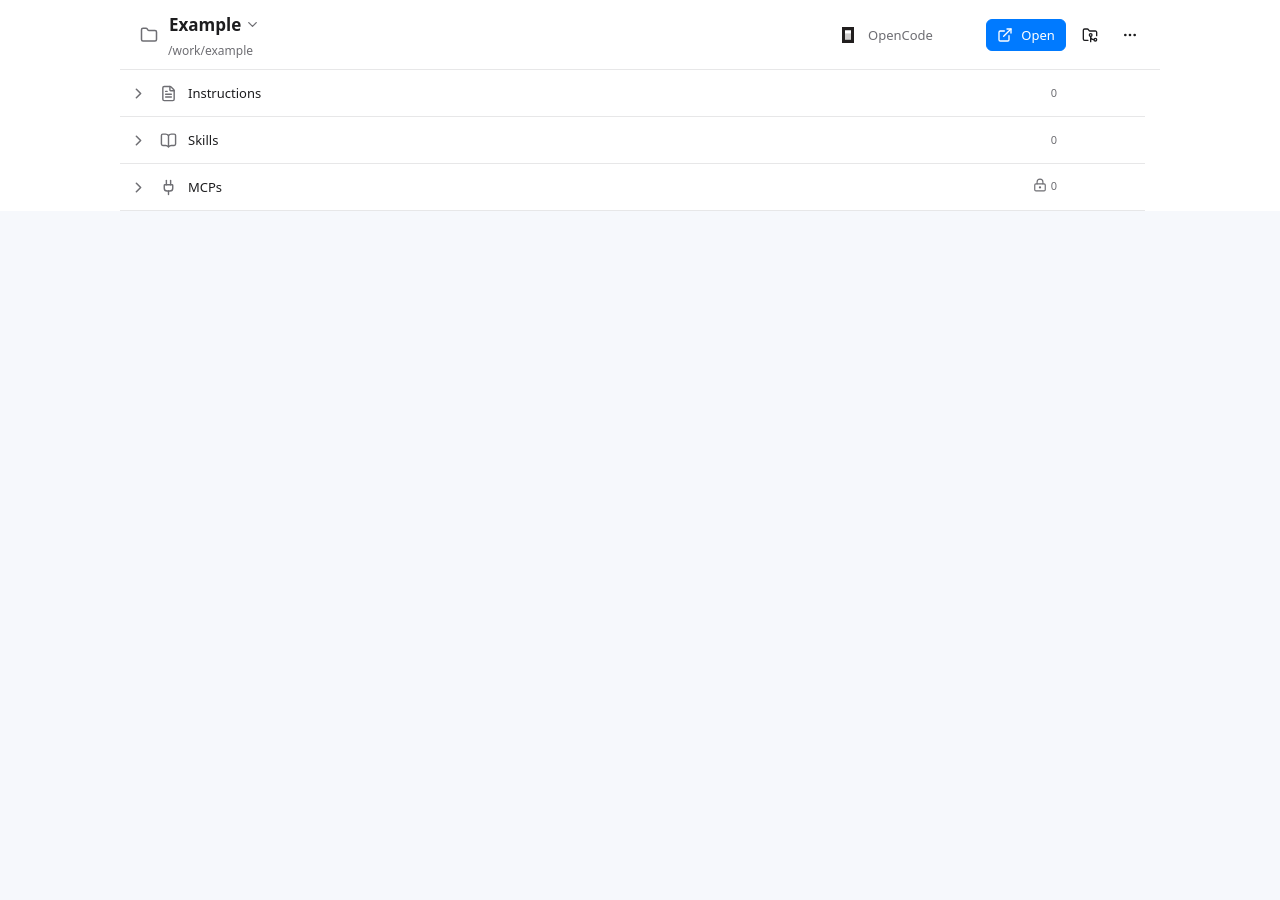
Scenario: ProjectsWorkspace › offers an instruction draft when the selected Agent file is missing
The width and height of the screenshot is (1280, 900).
Click the button with aria-label "Expand Instructions". click: (225, 93)
box: [120,70,1067,116]
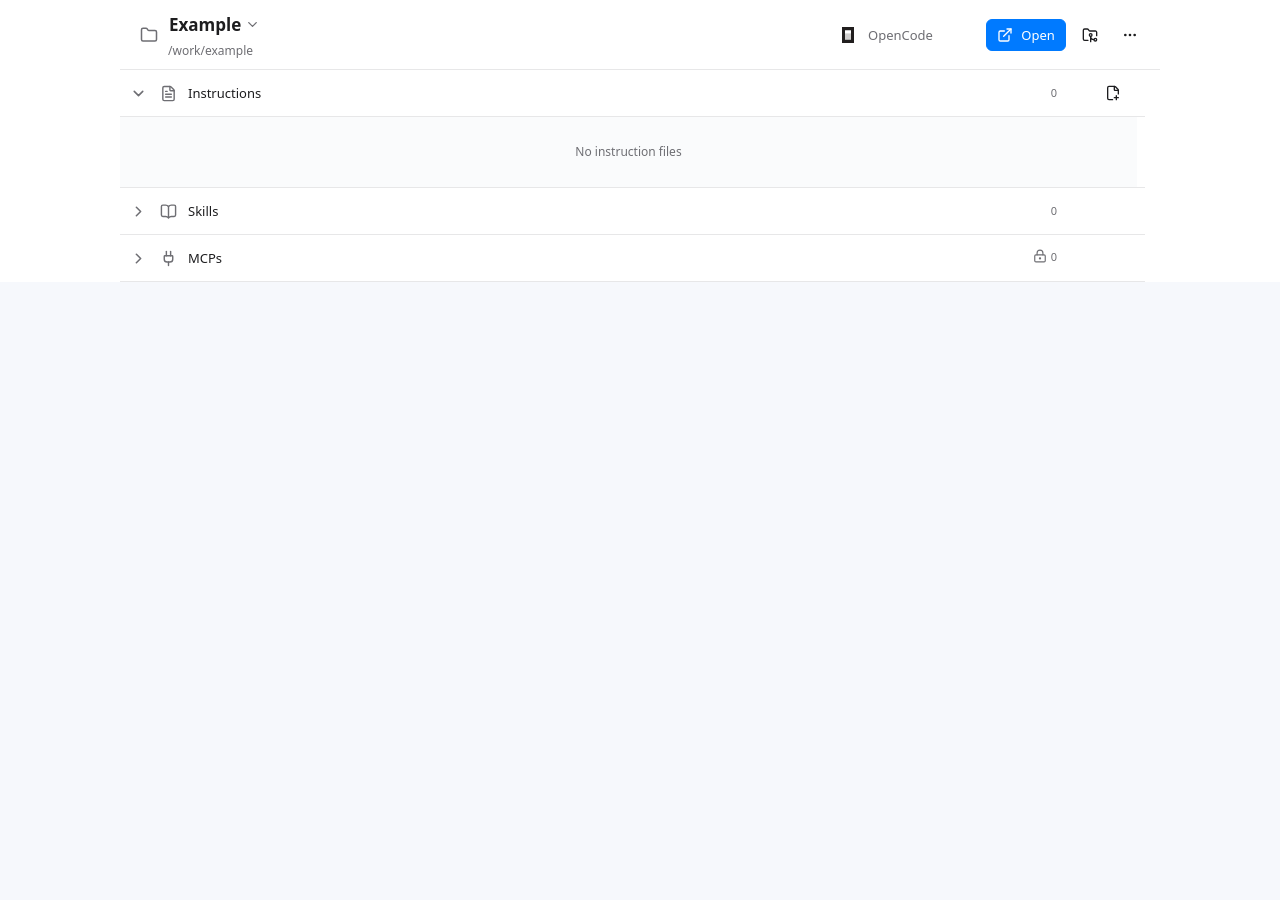
Click the button named "Add instruction". click: (1113, 93)
box: [1099,79,1127,107]
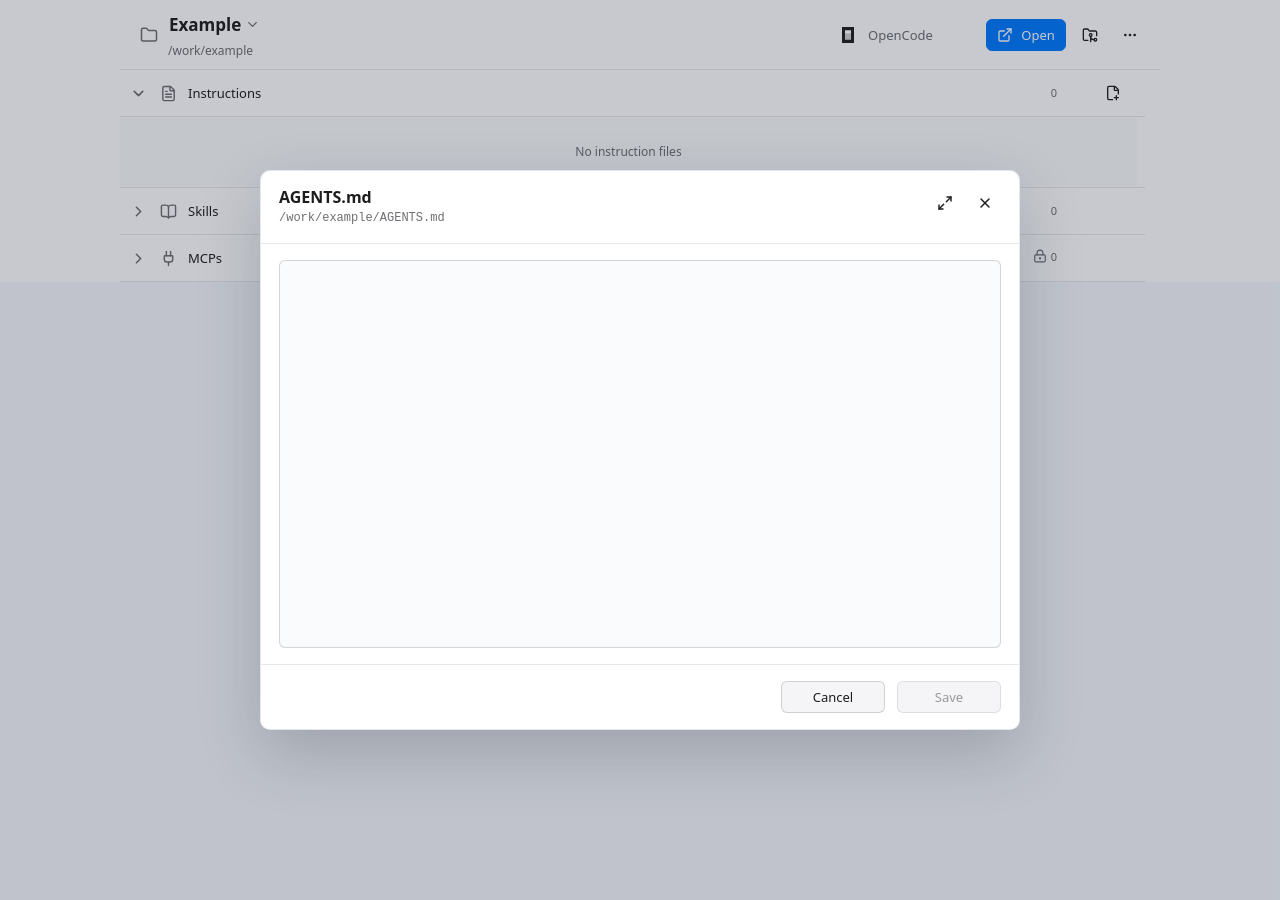
Now the dialog named "Workspace instruction" is shown, box [260,170,1020,730]
